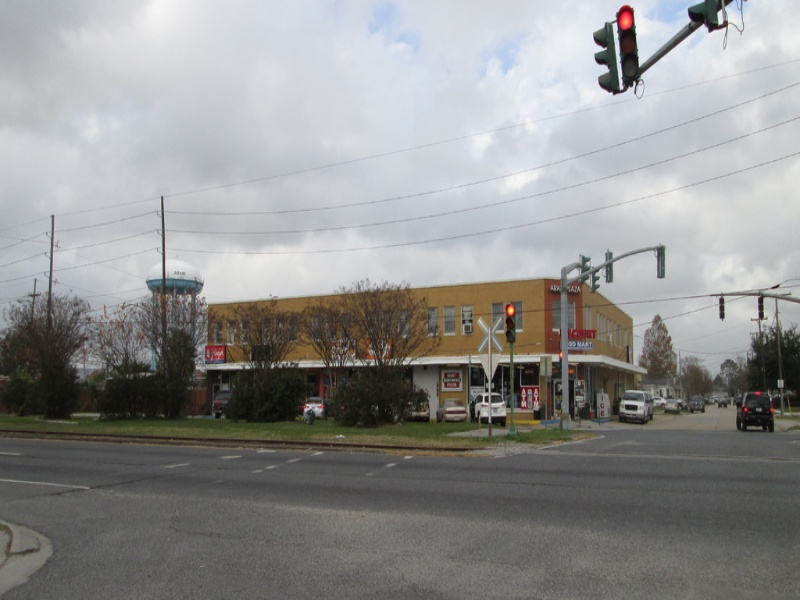red_light: (614, 3, 638, 32)
